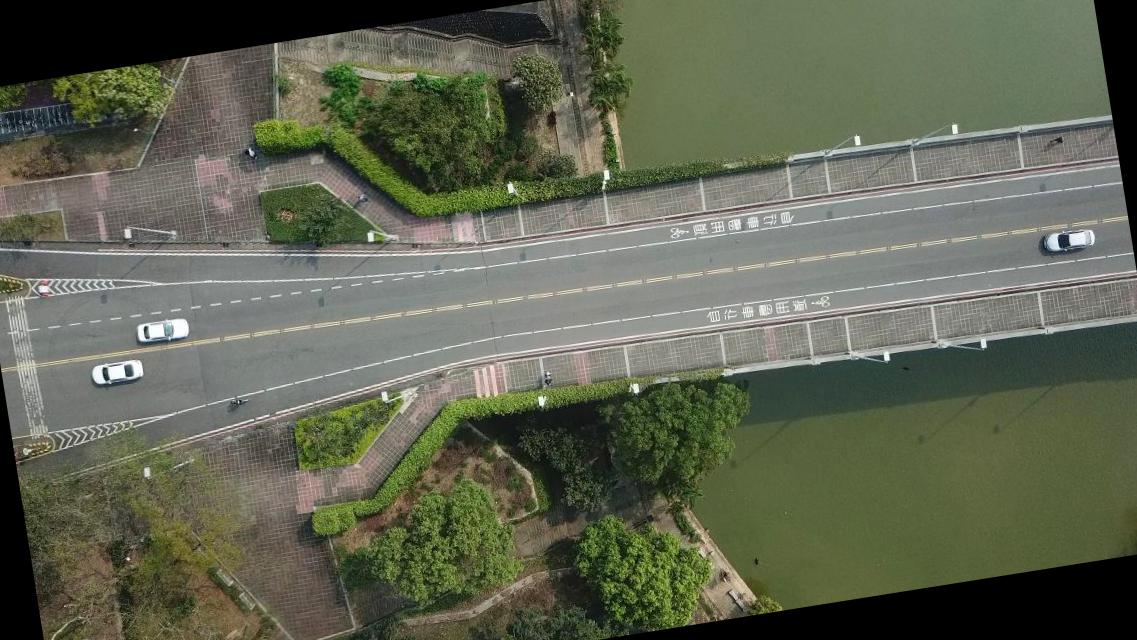vehicle: (90, 356, 145, 387), (135, 316, 191, 346), (1041, 225, 1096, 255)
